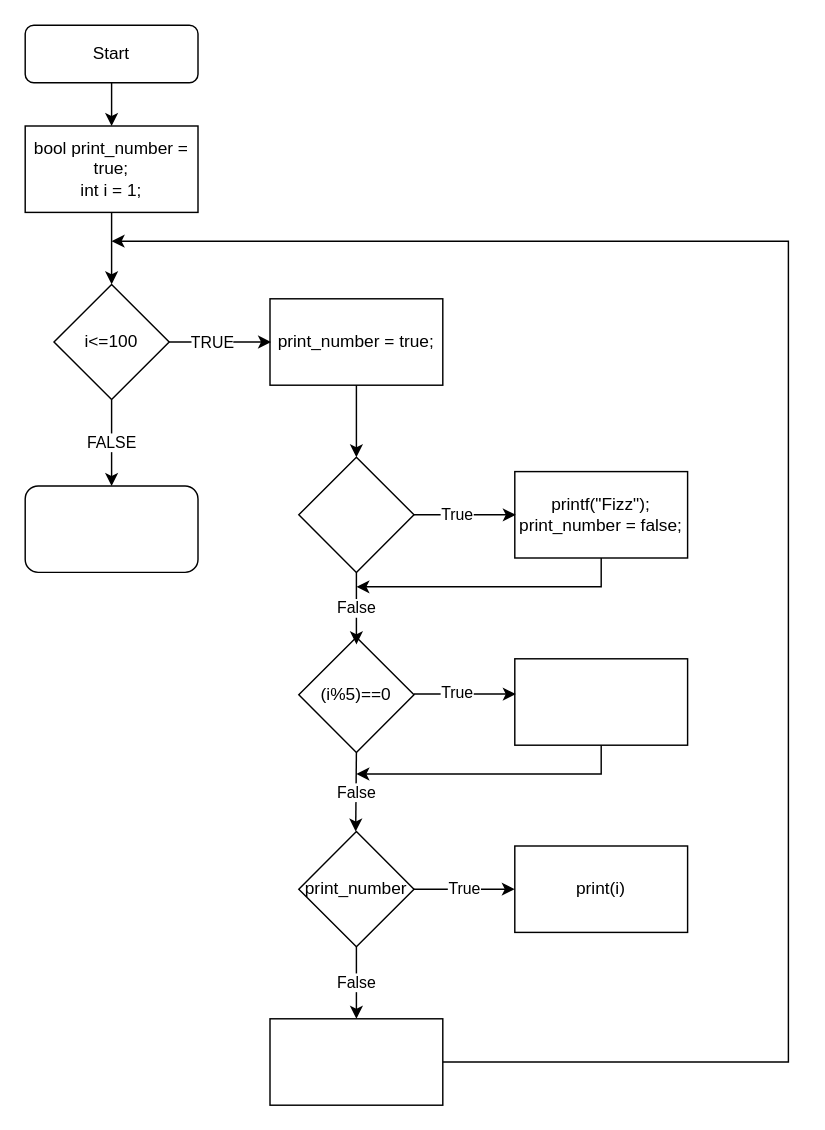
This 825x1130 diagram has some shape labels left out. Here are the shapes that lost their labels. From the top down, the centre of each, then its label:
[111,528]: return 0;
[355,514]: (i%3)==0
[600,701]: printf("Buzz"); print_number = false;
[356,1061]: NEWLN i++;
